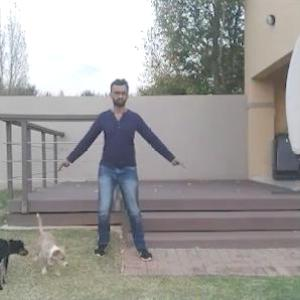land: (60, 89, 202, 250)
